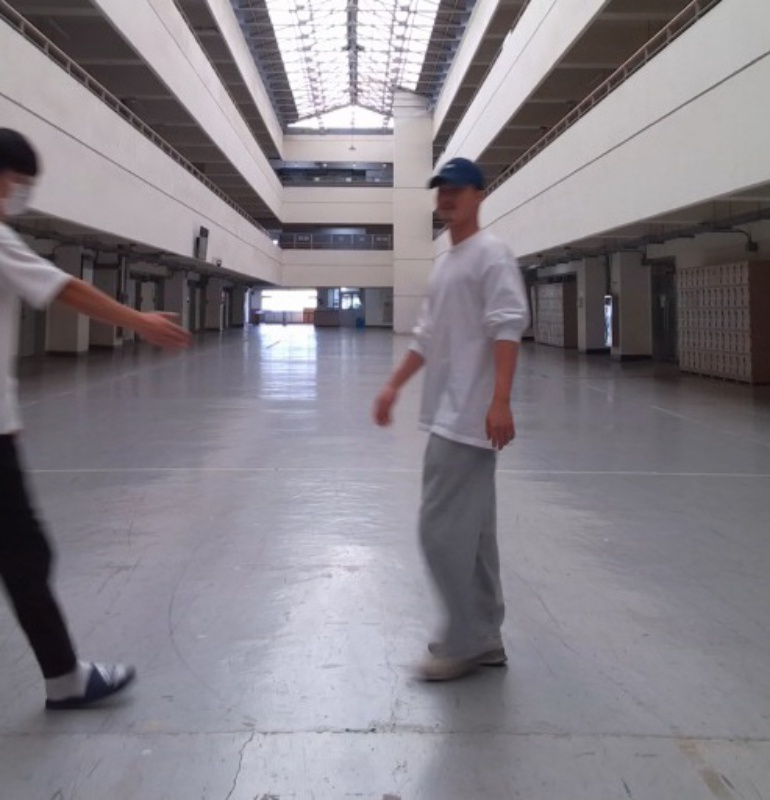person: (368, 157, 537, 686)
